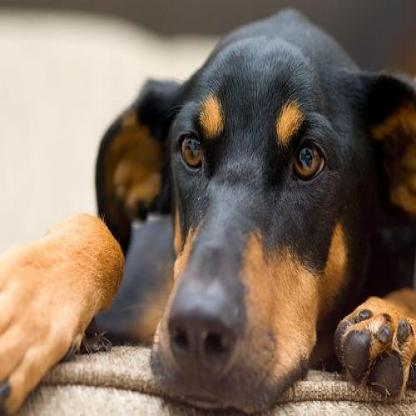Doberman: (0, 8, 414, 413)
